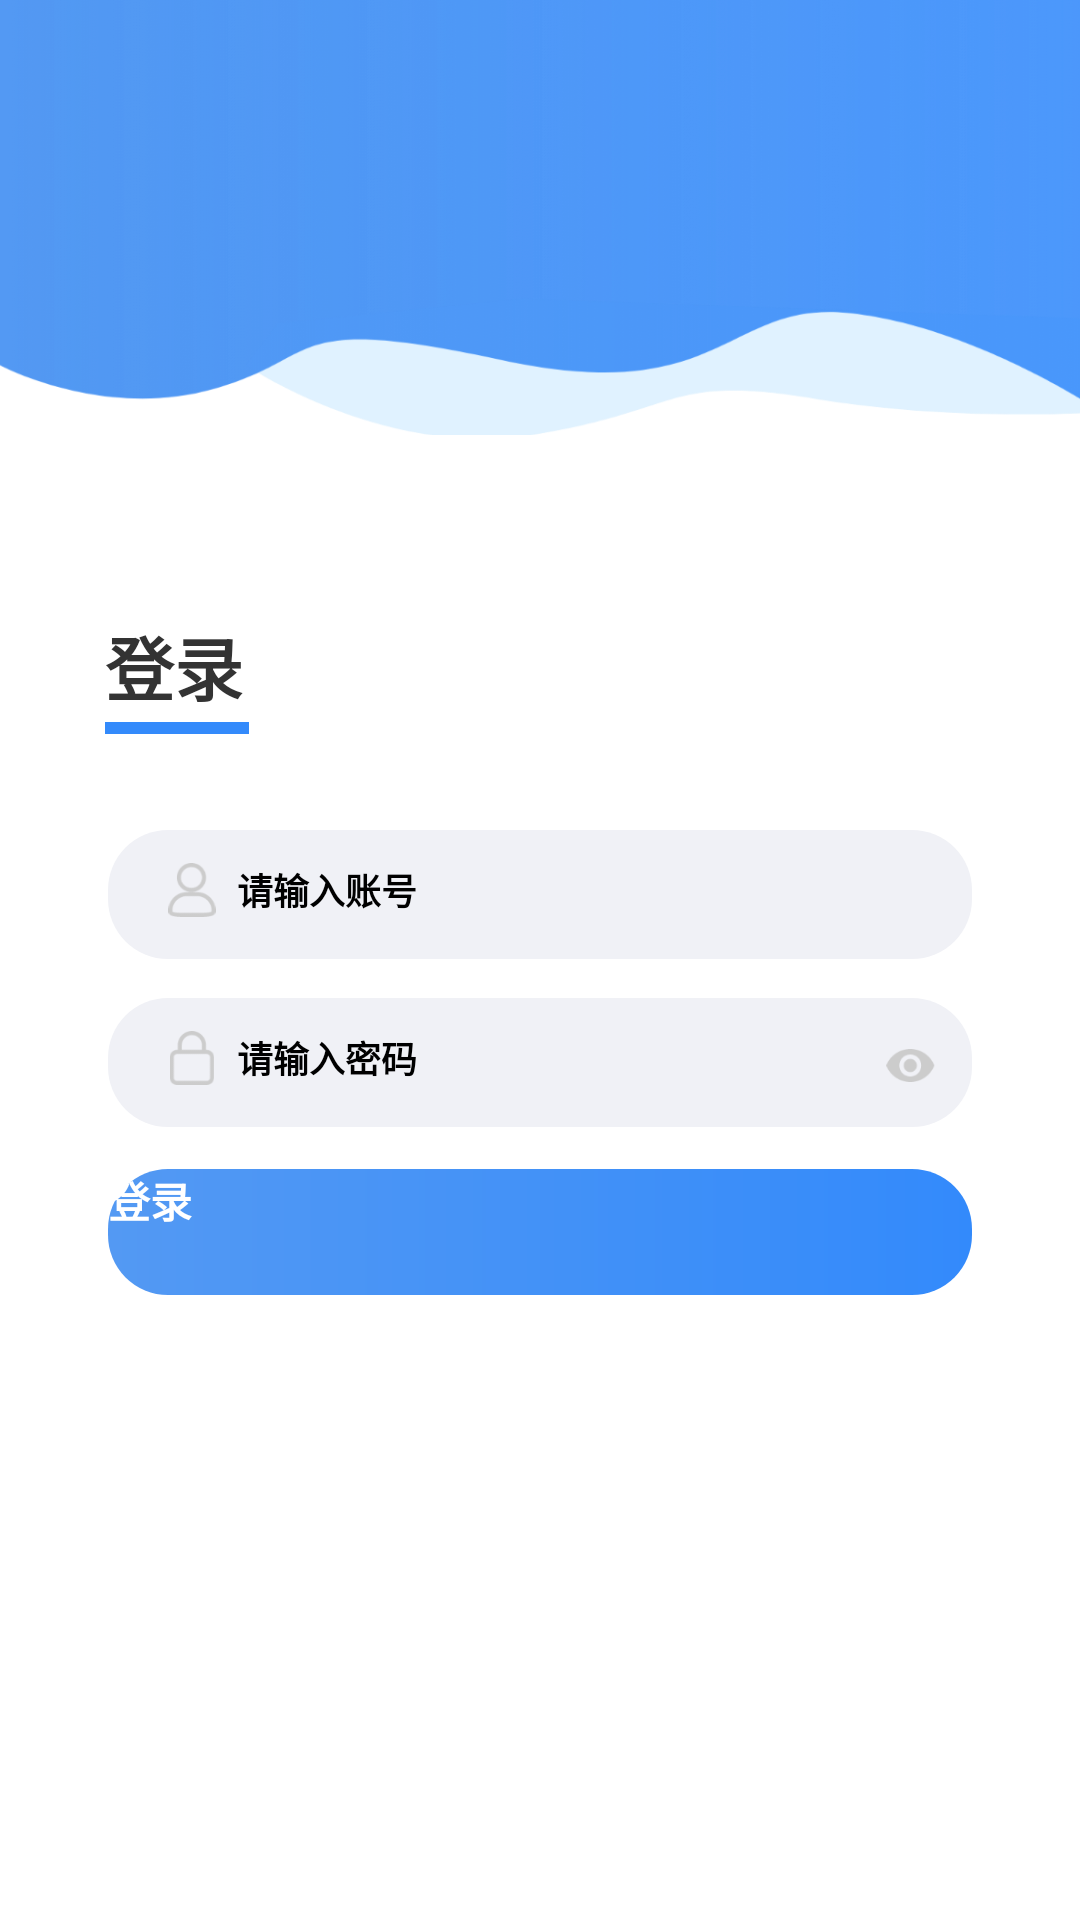

Where to tap for icons on this 1080px x 1920px app screen, as (x,y):
login accout: (192,890)
login pass: (192,1058)
login see: (910,1065)
